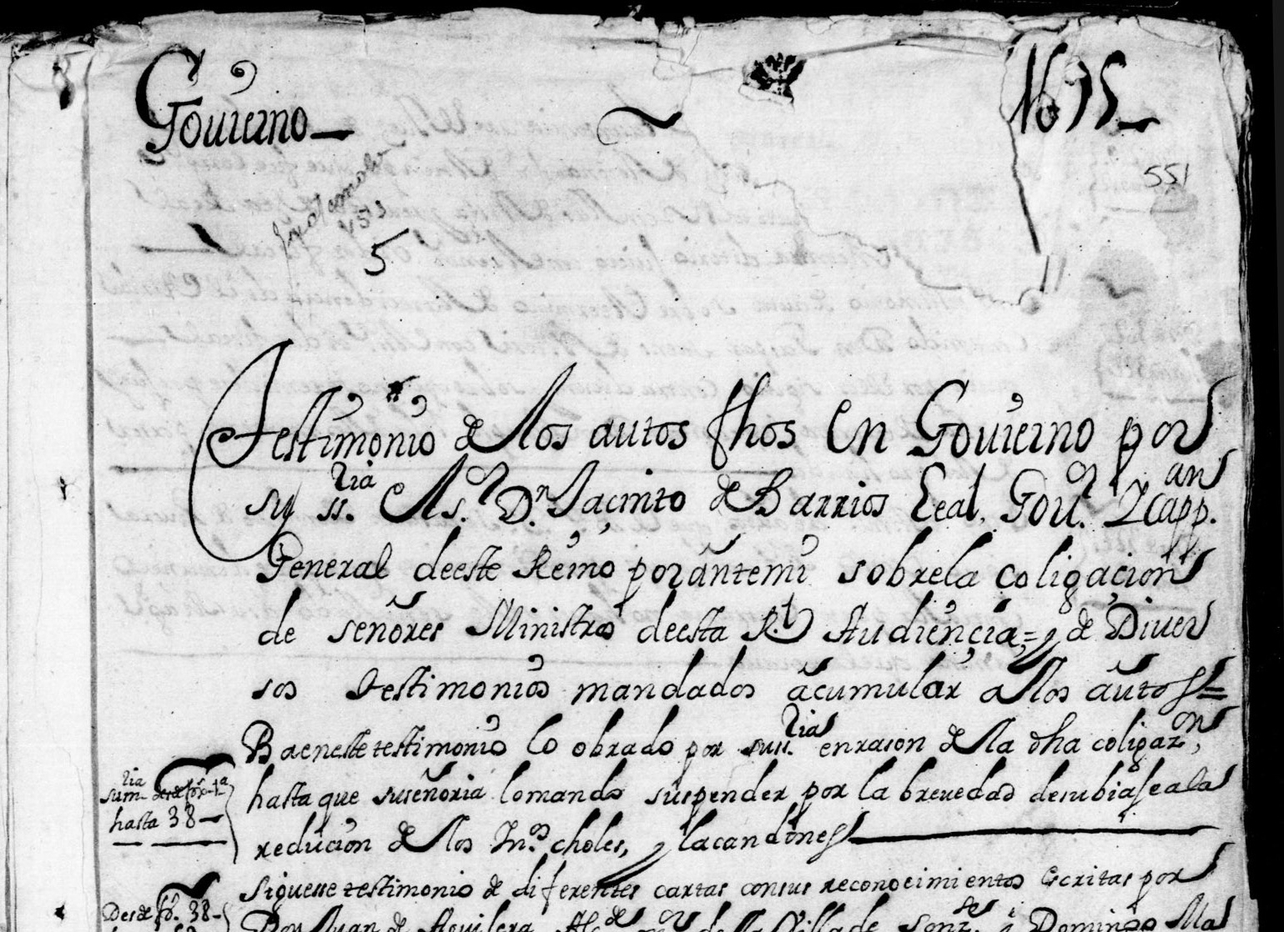lacandon: (678, 802, 869, 864)
